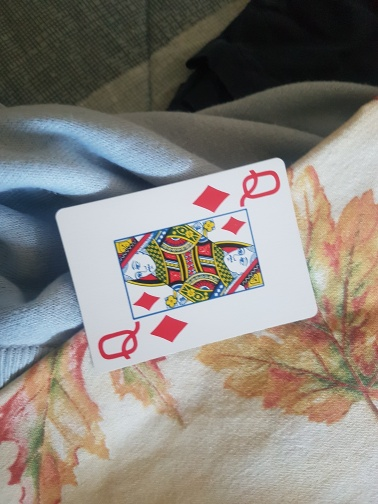queen: (55, 157, 317, 375)
